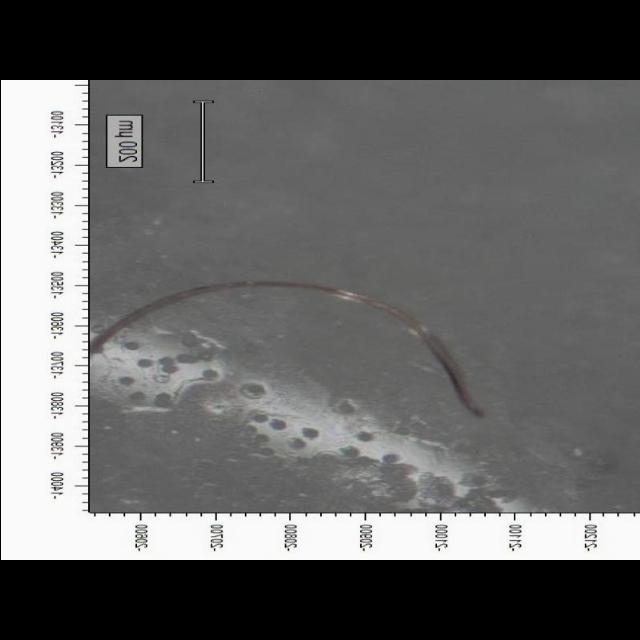Fibre: (89, 281, 523, 514)
